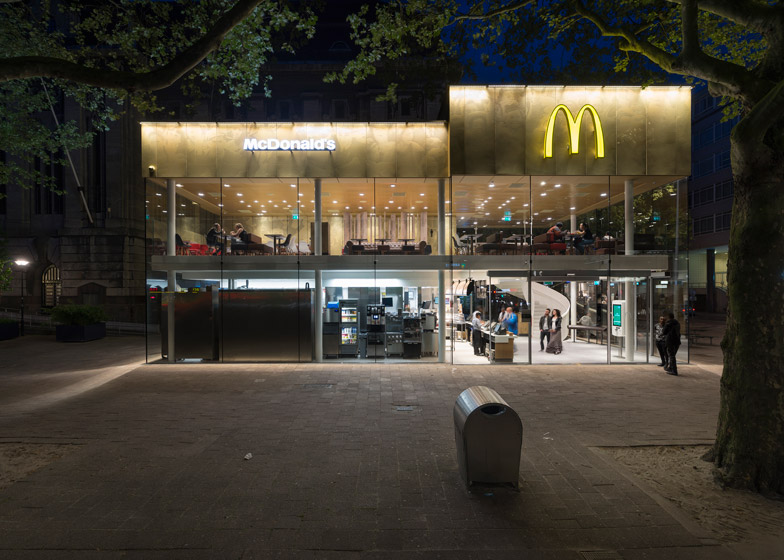mcdonalds: (539, 98, 615, 165)
